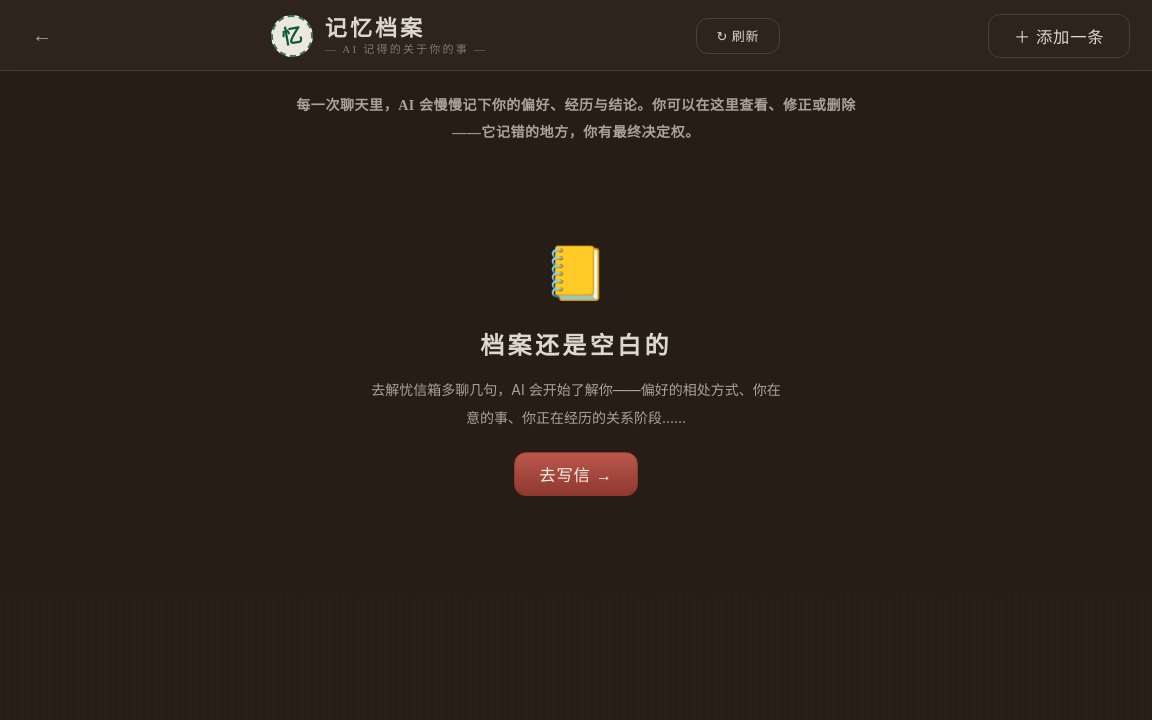
Test case: MemoryArchive.vue › 正常新增：用 trim 后的内容 + 所选分类调接口，清空输入并刷新列表
Click the button "＋ 添加一条" at (1059, 36), box [988, 14, 1130, 58]
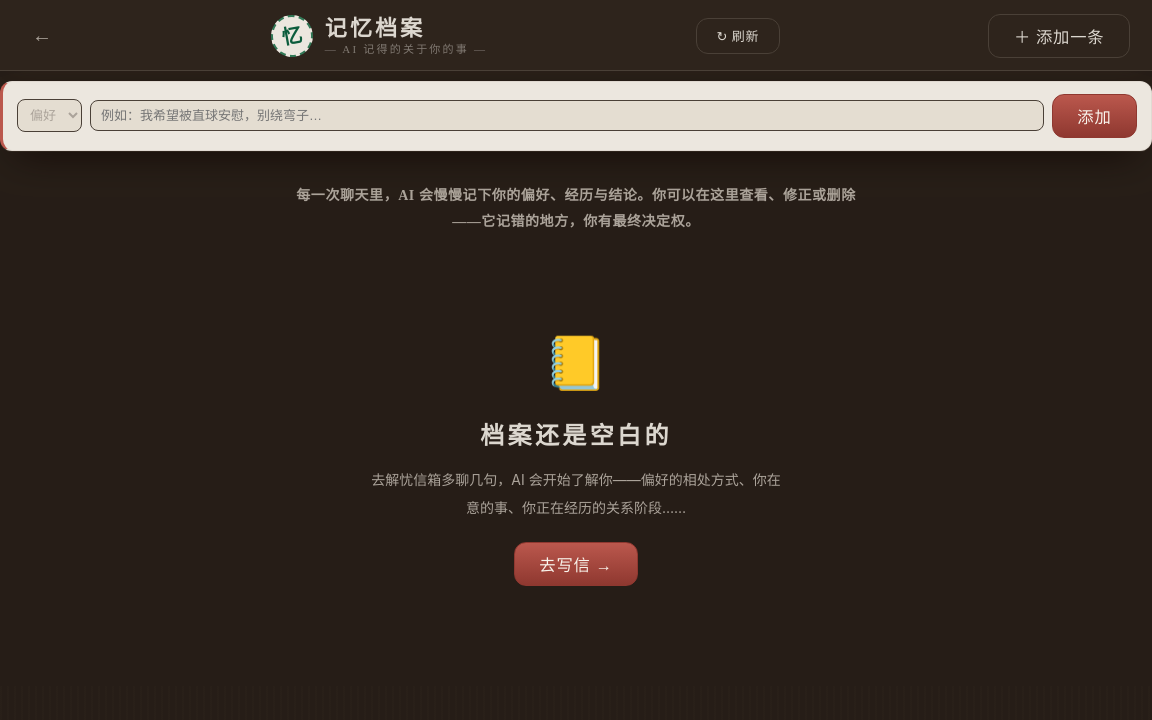
Type "   想被直球安慰   " into the field with class "add-input" at (567, 116), box [90, 100, 1044, 131]
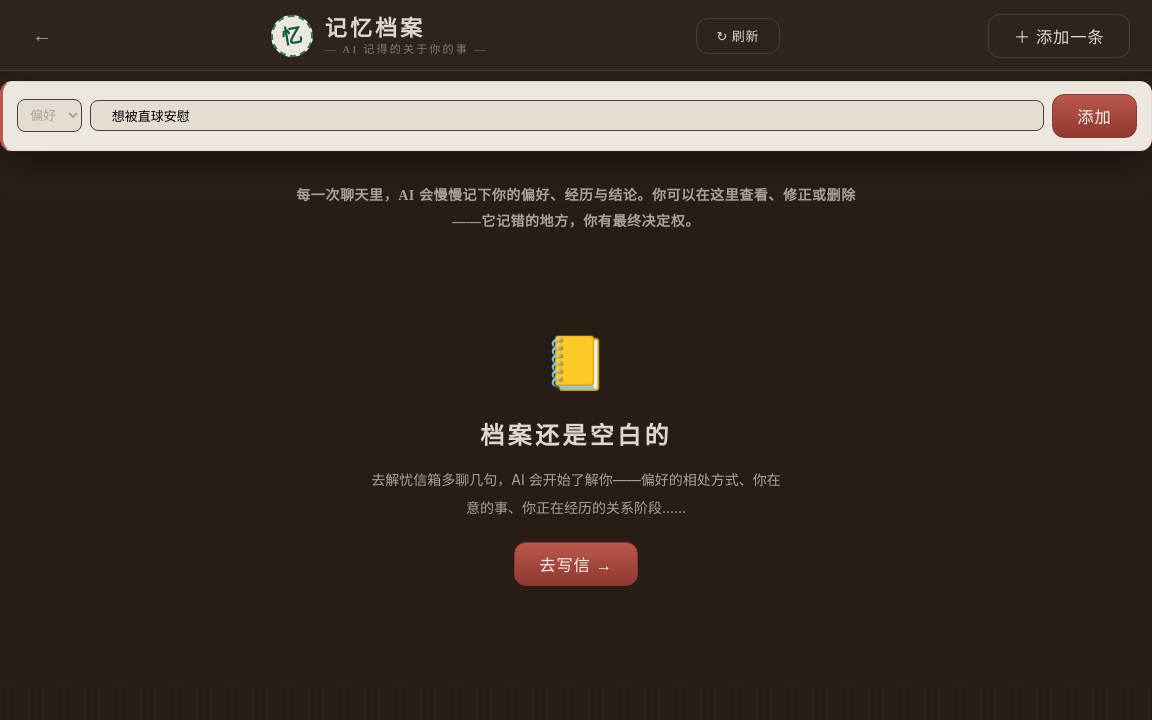
Select "经历" in the dropdown with class "add-cat" at (50, 116), box [17, 99, 82, 132]
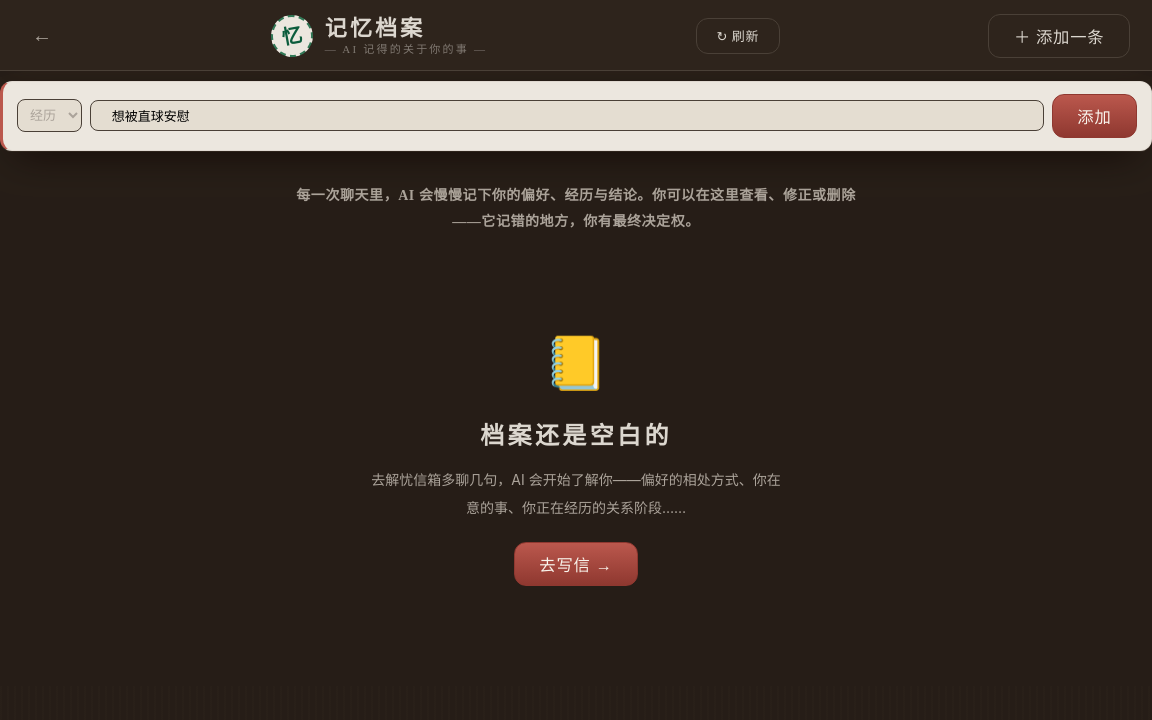
Click the button with class "btn-hand" showing "添加" at (1094, 116), box [1052, 94, 1137, 138]
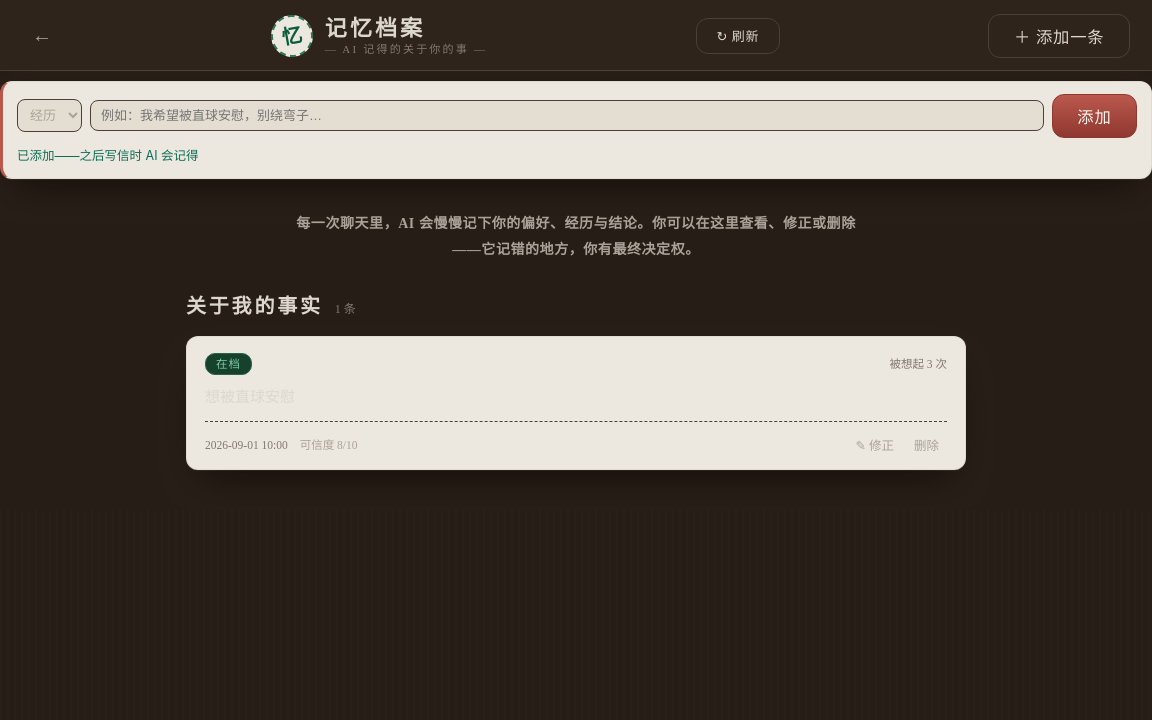
Check: the field with class "add-input" is empty, box [90, 100, 1044, 131]
Check: the number of list items with class "mem-card" is 1, box [186, 336, 966, 470]
